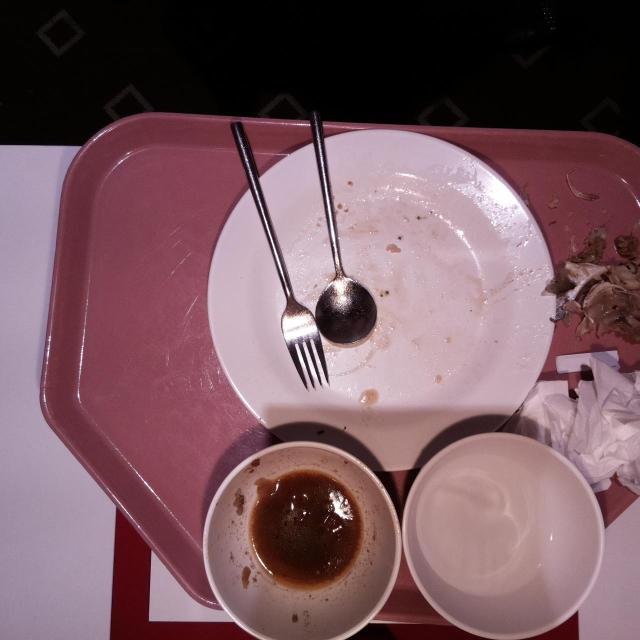Bone-fish: (554, 258, 640, 342)
